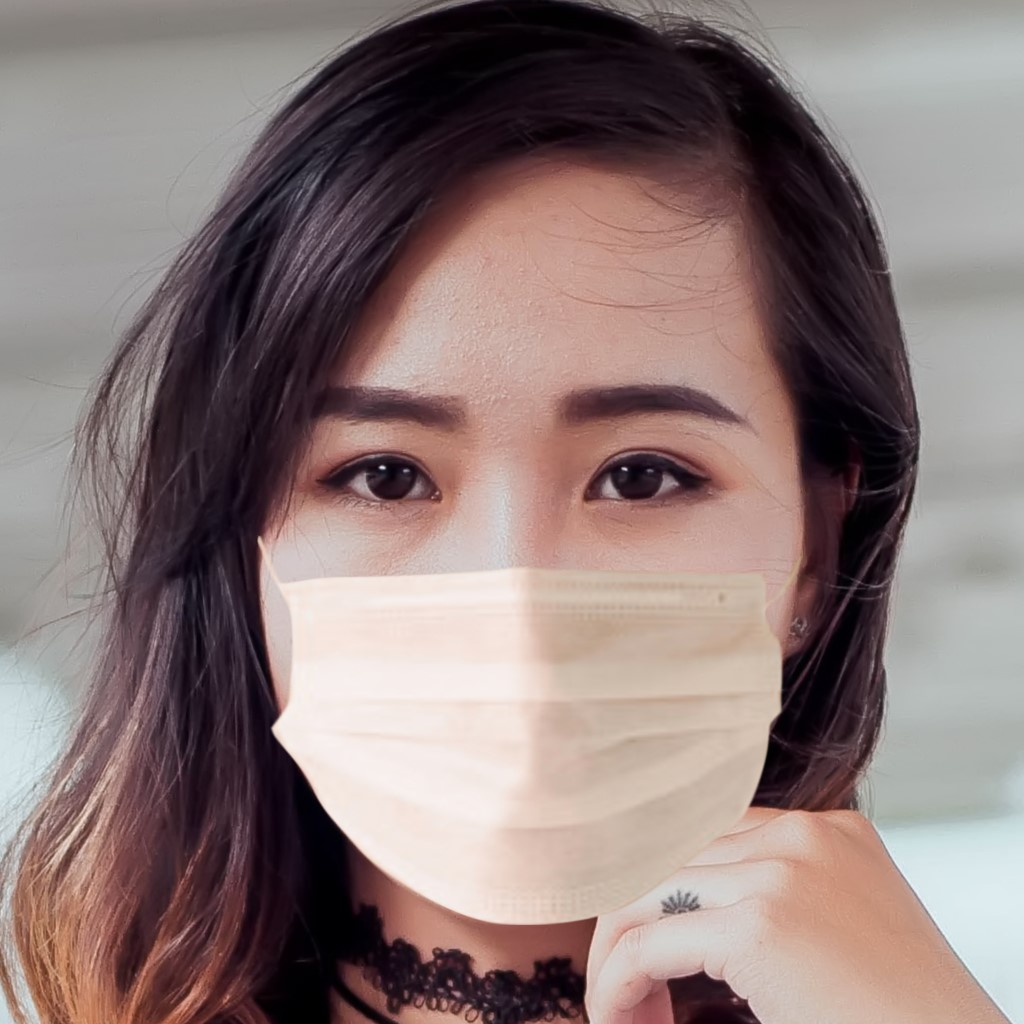con_mascara: (233, 140, 843, 914)
